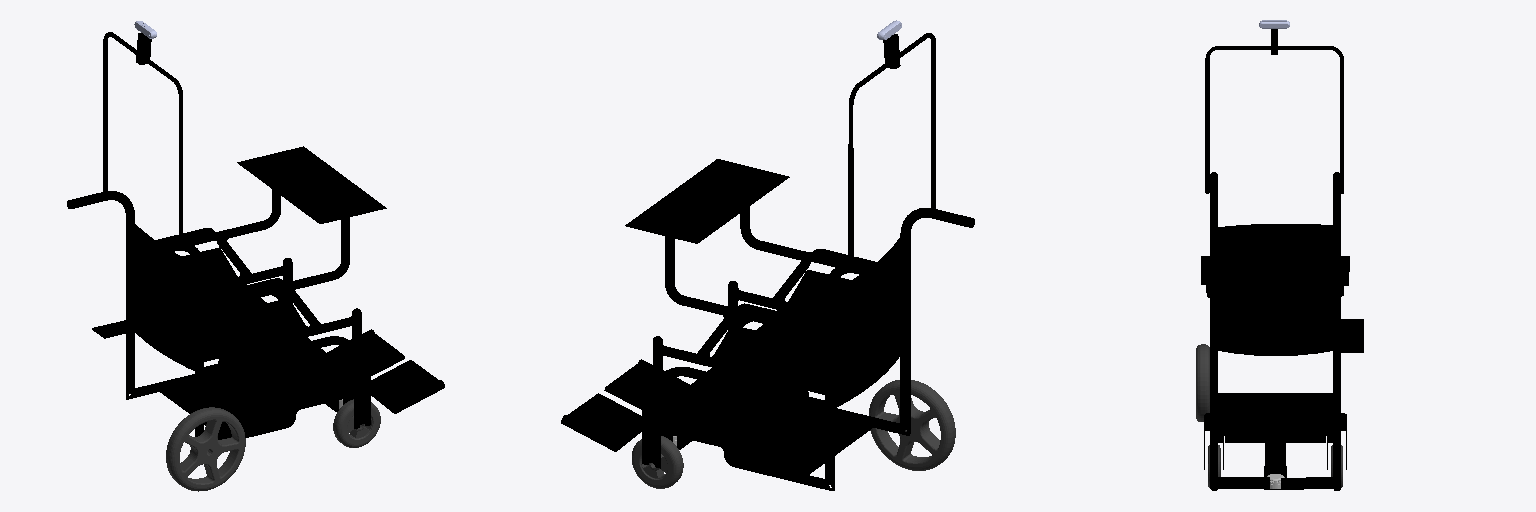
URDF robot description (wheel_chair):
<?xml version="1.0" encoding="utf-8"?>
<!-- This URDF was automatically created by SolidWorks to URDF Exporter! Originally created by [author] ([email redacted]) 
     Commit Version: 1.5.1-0-g916b5db  Build Version: 1.5.7152.31018
     For more information, please see http://wiki.ros.org/sw_urdf_exporter -->
<robot
  name="wheel_chair">
  <link
    name="base_link">
    <inertial>
      <origin
        xyz="0.0600471604819967 0.00439213544760461 0.221474470099281"
        rpy="0 0 0" />
      <mass
        value="100.569950446923" />
      <inertia
        ixx="4.48301901861672"
        ixy="0.0349855645708372"
        ixz="1.28165662218941"
        iyy="7.27876793727071"
        iyz="0.0398564867859076"
        izz="3.9606066424214" />
    </inertial>
    <visual>
      <origin
        xyz="0 0 0"
        rpy="0 0 0" />
      <geometry>
        <mesh
          filename="package://wheel_chair/meshes/base_link.STL" />
      </geometry>
      <material
        name="">
        <color
          rgba="0 0 0 1" />
      </material>
    </visual>
    <collision>
      <origin
        xyz="0 0 0"
        rpy="0 0 0" />
      <geometry>
        <mesh
          filename="package://wheel_chair/meshes/base_link.STL" />
      </geometry>
    </collision>
  </link>
  <link
    name="left_big_wheel">
    <inertial>
      <origin
        xyz="1.11022302462516E-16 -0.0275 1.0547118733939E-15"
        rpy="0 0 0" />
      <mass
        value="3.19005851775017" />
      <inertia
        ixx="0.0222055020892376"
        ixy="2.51803084243033E-19"
        ixz="-2.81676763764174E-17"
        iyy="0.0429444812918596"
        iyz="-1.55599135569761E-19"
        izz="0.0222055020892377" />
    </inertial>
    <visual>
      <origin
        xyz="0 0 0"
        rpy="0 0 0" />
      <geometry>
        <mesh
          filename="package://wheel_chair/meshes/left_big_wheel.STL" />
      </geometry>
      <material
        name="">
        <color
          rgba="0.298039215686275 0.298039215686275 0.298039215686275 1" />
      </material>
    </visual>
    <collision>
      <origin
        xyz="0 0 0"
        rpy="0 0 0" />
      <geometry>
        <mesh
          filename="package://wheel_chair/meshes/left_big_wheel.STL" />
      </geometry>
    </collision>
  </link>
  <joint
    name="left_big_wheel_joint"
    type="continuous">
    <origin
      xyz="-0.32005 0.315 -0.008"
      rpy="0 0 0" />
    <parent
      link="base_link" />
    <child
      link="left_big_wheel" />
    <axis
      xyz="0 -1 0" />
    <limit
      effort="1"
      velocity="1" />
  </joint>
  <link
    name="right_big_wheel">
    <inertial>
      <origin
        xyz="-8.32667268468867E-17 0.0275 9.99200722162641E-16"
        rpy="0 0 0" />
      <mass
        value="3.19005851775017" />
      <inertia
        ixx="0.0222055020892377"
        ixy="-1.13575517018704E-19"
        ixz="-3.09327695242051E-17"
        iyy="0.0429444812918597"
        iyz="2.10016504636252E-19"
        izz="0.0222055020892377" />
    </inertial>
    <visual>
      <origin
        xyz="0 0 0"
        rpy="0 0 0" />
      <geometry>
        <mesh
          filename="package://wheel_chair/meshes/right_big_wheel.STL" />
      </geometry>
      <material
        name="">
        <color
          rgba="0.298039215686275 0.298039215686275 0.298039215686275 1" />
      </material>
    </visual>
    <collision>
      <origin
        xyz="0 0 0"
        rpy="0 0 0" />
      <geometry>
        <mesh
          filename="package://wheel_chair/meshes/right_big_wheel.STL" />
      </geometry>
    </collision>
  </link>
  <joint
    name="right_big_wheel_joint"
    type="continuous">
    <origin
      xyz="-0.32005 -0.315 -0.008"
      rpy="0 0 0" />
    <parent
      link="base_link" />
    <child
      link="right_big_wheel" />
    <axis
      xyz="0 -1 0" />
    <limit
      effort="1"
      velocity="1" />
  </joint>
  <link
    name="left_small_wheel">
    <inertial>
      <origin
        xyz="5.55111512312578E-17 -0.0400000000000001 2.77555756156289E-16"
        rpy="0 0 0" />
      <mass
        value="1.31881639542862" />
      <inertia
        ixx="0.00307756206748821"
        ixy="-7.66247179909921E-19"
        ixz="-1.74672358005914E-19"
        iyy="0.00569232821091255"
        iyz="-5.06507769485301E-19"
        izz="0.00307756206748821" />
    </inertial>
    <visual>
      <origin
        xyz="0 0 0"
        rpy="0 0 0" />
      <geometry>
        <mesh
          filename="package://wheel_chair/meshes/left_small_wheel.STL" />
      </geometry>
      <material
        name="">
        <color
          rgba="0.298039215686275 0.298039215686275 0.298039215686275 1" />
      </material>
    </visual>
    <collision>
      <origin
        xyz="0 0 0"
        rpy="0 0 0" />
      <geometry>
        <mesh
          filename="package://wheel_chair/meshes/left_small_wheel.STL" />
      </geometry>
    </collision>
  </link>
  <joint
    name="left_small_wheel_joint"
    type="revolute">
    <origin
      xyz="0.31993 0.2835 -0.073"
      rpy="0 0 0.00055161" />
    <parent
      link="base_link" />
    <child
      link="left_small_wheel" />
    <axis
      xyz="0 1 0" />
    <limit
      lower="0"
      upper="0"
      effort="0"
      velocity="0" />
  </joint>
  <link
    name="right_smaal_wheel">
    <inertial>
      <origin
        xyz="0.000174507822597092 0.0399996193359368 0"
        rpy="0 0 0" />
      <mass
        value="1.31881639542862" />
      <inertia
        ixx="0.00307761183462662"
        ixy="1.14073200972812E-05"
        ixz="-2.08848241268008E-19"
        iyy="0.00569227844377414"
        iyz="1.53998924281543E-19"
        izz="0.00307756206748821" />
    </inertial>
    <visual>
      <origin
        xyz="0 0 0"
        rpy="0 0 0" />
      <geometry>
        <mesh
          filename="package://wheel_chair/meshes/right_smaal_wheel.STL" />
      </geometry>
      <material
        name="">
        <color
          rgba="0.298039215686275 0.298039215686275 0.298039215686275 1" />
      </material>
    </visual>
    <collision>
      <origin
        xyz="0 0 0"
        rpy="0 0 0" />
      <geometry>
        <mesh
          filename="package://wheel_chair/meshes/right_smaal_wheel.STL" />
      </geometry>
    </collision>
  </link>
  <joint
    name="right_small_wheel_joint"
    type="revolute">
    <origin
      xyz="0.31978 -0.2835 -0.073"
      rpy="0 0 0" />
    <parent
      link="base_link" />
    <child
      link="right_smaal_wheel" />
    <axis
      xyz="0.0043627 0.99999 0" />
    <limit
      lower="0"
      upper="0"
      effort="0"
      velocity="0" />
  </joint>
  <link
    name="back_lidar">
    <inertial>
      <origin
        xyz="-0.00393393719392465 1.45541326387055E-05 -0.00550433759472346"
        rpy="0 0 0" />
      <mass
        value="0.165382757413928" />
      <inertia
        ixx="7.88186497400901E-05"
        ixy="4.81327415297136E-08"
        ixz="-1.82339073198479E-06"
        iyy="7.51902892774038E-05"
        iyz="-2.9420939238945E-08"
        izz="0.000109993288450695" />
    </inertial>
    <visual>
      <origin
        xyz="0 0 0"
        rpy="0 0 0" />
      <geometry>
        <mesh
          filename="package://wheel_chair/meshes/back_lidar.STL" />
      </geometry>
      <material
        name="">
        <color
          rgba="0.752941176470588 0.752941176470588 0.752941176470588 0.4" />
      </material>
    </visual>
    <collision>
      <origin
        xyz="0 0 0"
        rpy="0 0 0" />
      <geometry>
        <mesh
          filename="package://wheel_chair/meshes/back_lidar.STL" />
      </geometry>
    </collision>
  </link>
  <joint
    name="back_lidar_joint"
    type="fixed">
    <origin
      xyz="-0.36833 0.305 0.25299"
      rpy="0 0 0" />
    <parent
      link="base_link" />
    <child
      link="back_lidar" />
    <axis
      xyz="0 0 0" />
  </joint>
  <link
    name="front_lidar">
    <inertial>
      <origin
        xyz="0.00417274073163831 7.93864644071385E-05 -0.00532501160387389"
        rpy="0 0 0" />
      <mass
        value="0.165382782759051" />
      <inertia
        ixx="7.87141445089364E-05"
        ixy="1.32968106585099E-07"
        ixz="4.37269330421537E-07"
        iyy="7.51948167581616E-05"
        iyz="9.06152024097063E-08"
        izz="0.000110093266294305" />
    </inertial>
    <visual>
      <origin
        xyz="0 0 0"
        rpy="0 0 0" />
      <geometry>
        <mesh
          filename="package://wheel_chair/meshes/front_lidar.STL" />
      </geometry>
      <material
        name="">
        <color
          rgba="0.752941176470588 0.752941176470588 0.752941176470588 0.4" />
      </material>
    </visual>
    <collision>
      <origin
        xyz="0 0 0"
        rpy="0 0 0" />
      <geometry>
        <mesh
          filename="package://wheel_chair/meshes/front_lidar.STL" />
      </geometry>
    </collision>
  </link>
  <joint
    name="front_lidar_joint"
    type="fixed">
    <origin
      xyz="0.4012 -3.7661E-05 -0.092559"
      rpy="0 0 0.00055161" />
    <parent
      link="base_link" />
    <child
      link="front_lidar" />
    <axis
      xyz="0 0 0" />
  </joint>
  <link
    name="camera">
    <inertial>
      <origin
        xyz="-0.0128303969841449 0.000263456201996776 0.00120890764966197"
        rpy="0 0 0" />
      <mass
        value="0.0247927918584364" />
      <inertia
        ixx="3.56506587063533E-05"
        ixy="-1.1572052339377E-08"
        ixz="-1.8226692503798E-07"
        iyy="2.84011174627099E-06"
        iyz="2.78712528047103E-08"
        izz="3.35091989014233E-05" />
    </inertial>
    <visual>
      <origin
        xyz="0 0 0"
        rpy="0 0 0" />
      <geometry>
        <mesh
          filename="package://wheel_chair/meshes/camera.STL" />
      </geometry>
      <material
        name="">
        <color
          rgba="0.792156862745098 0.819607843137255 0.933333333333333 1" />
      </material>
    </visual>
    <collision>
      <origin
        xyz="0 0 0"
        rpy="0 0 0" />
      <geometry>
        <mesh
          filename="package://wheel_chair/meshes/camera.STL" />
      </geometry>
    </collision>
  </link>
  <joint
    name="camera_joint"
    type="fixed">
    <origin
      xyz="-0.387035971879652 -0.00396906785592691 1.52648295547757"
      rpy="0 0 0" />
    <parent
      link="base_link" />
    <child
      link="camera" />
    <axis
      xyz="-0.99739 -0.072202 0" />
    <limit
      lower="0"
      upper="0"
      effort="0"
      velocity="0" />
  </joint>
</robot>

--- Facts derived from the render (not from the file) ---
Views: 3 orthographic renders of the robot side by side, from view 1: azimuth 30°, elevation 25°; view 2: azimuth 150°, elevation 25°; view 3: azimuth 270°, elevation 25°.
Model wheel_chair with 8 links and 7 joints (2 revolute, 2 continuous, 3 fixed), rooted at base_link, posed every joint at zero.
Links seen in each view (by area): view 1: base_link, right_big_wheel, right_smaal_wheel; view 2: base_link, right_big_wheel, left_small_wheel; view 3: base_link, right_big_wheel.
Link boxes in pixels (x1,y1,x2,y2): base_link: (67, 32, 444, 439); right_big_wheel: (166, 407, 245, 491); right_smaal_wheel: (333, 399, 380, 447); base_link: (561, 33, 974, 490); right_big_wheel: (869, 380, 955, 470); left_small_wheel: (632, 436, 683, 488); base_link: (1201, 29, 1363, 490); right_big_wheel: (1196, 344, 1209, 421).
Size in the robot's own frame: 1.24 by 0.665 by 1.7 metres.
6 mesh visuals loaded from 8 distinct referenced files (6 binary STL); not drawn: 2 (reference not matched to a file when rendering).